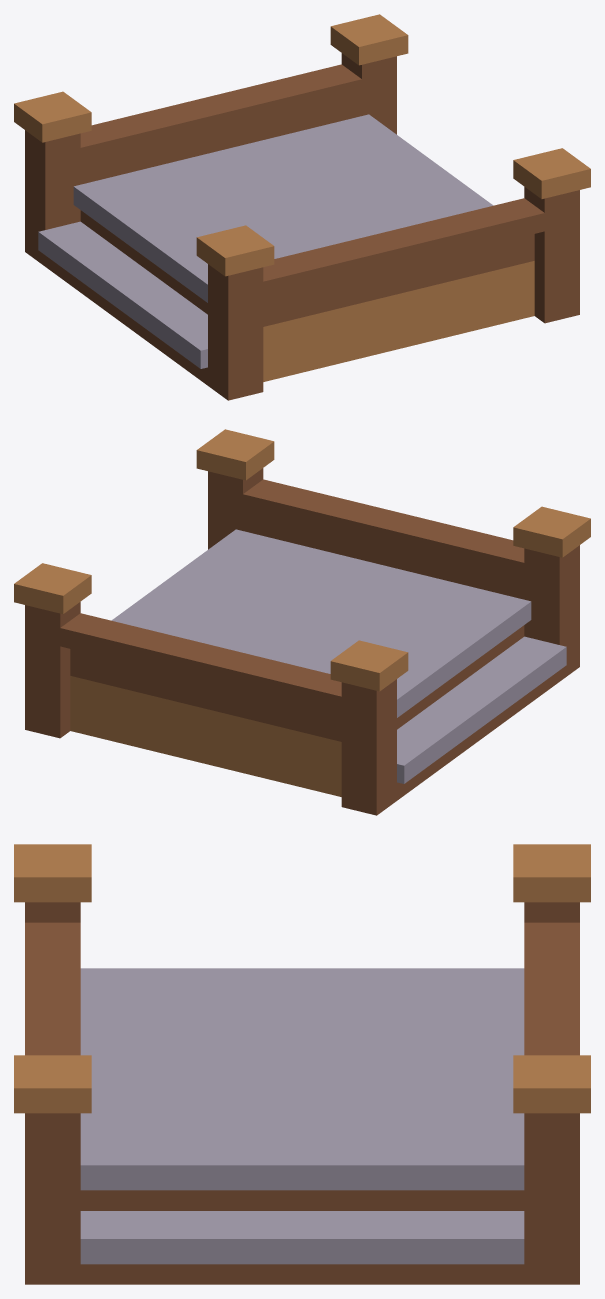
The model's file is bridge.glb.
The picture shows the model from 3 angles, top to bottom: view 1: azimuth 30°, elevation 25°; view 2: azimuth 150°, elevation 25°; view 3: azimuth 270°, elevation 25°; orthographic projection. The views are drawn at different scales.
Visible parts, largest first — view 1: bridge_wood; view 2: bridge_wood; view 3: bridge_wood.
Part boxes in pixels (<box>): bridge_wood: <box>14,14,590,400</box>; bridge_wood: <box>14,429,590,815</box>; bridge_wood: <box>14,844,590,1284</box>.
Size of the model in its own units: 1.66 by 0.64 by 1.66.
